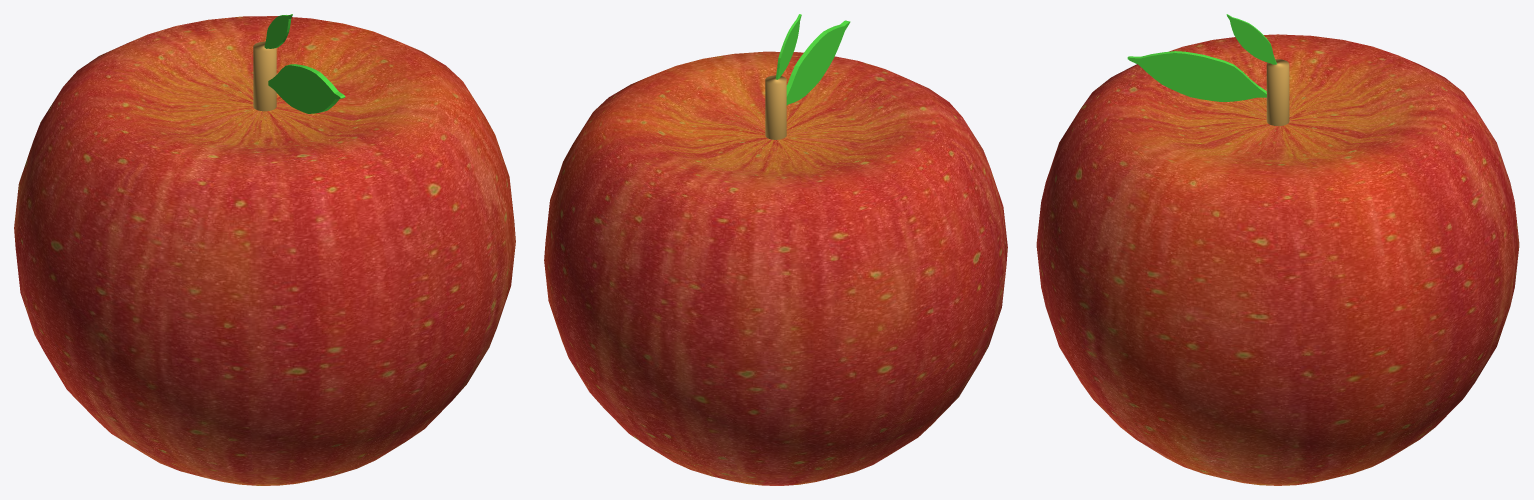
The model's file is Apple_Model.fbx.
The picture shows the model from 3 angles, left to right: view 1: azimuth 30°, elevation 25°; view 2: azimuth 150°, elevation 25°; view 3: azimuth 270°, elevation 25°; orthographic projection. The views are drawn at different scales.
Parts seen in each view (by area): view 1: Apel, Cube, pucuk, Cube.001; view 2: Apel, Cube, pucuk, Cube.001; view 3: Apel, Cube, pucuk, Cube.001.
Part boxes in pixels (<box>): Apel: <box>14,16,515,485</box>; Cube: <box>268,64,345,113</box>; pucuk: <box>253,41,276,111</box>; Cube.001: <box>264,14,292,48</box>; Apel: <box>544,51,1007,485</box>; Cube: <box>786,20,850,105</box>; pucuk: <box>765,75,786,139</box>; Cube.001: <box>775,14,801,79</box>; Apel: <box>1036,34,1519,485</box>; Cube: <box>1127,51,1266,101</box>; pucuk: <box>1266,59,1289,125</box>; Cube.001: <box>1226,14,1276,64</box>.
Bounding box in the file's own units: 200 × 200 × 200.
Materials: 3 (1 with a texture image).
